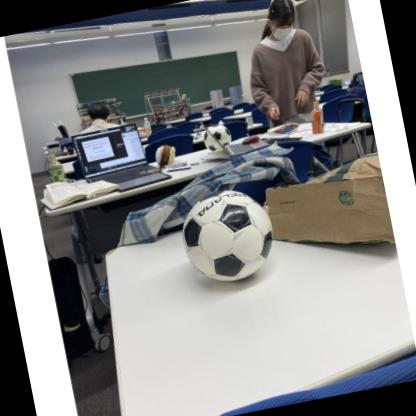ball: (176, 183, 280, 290)
